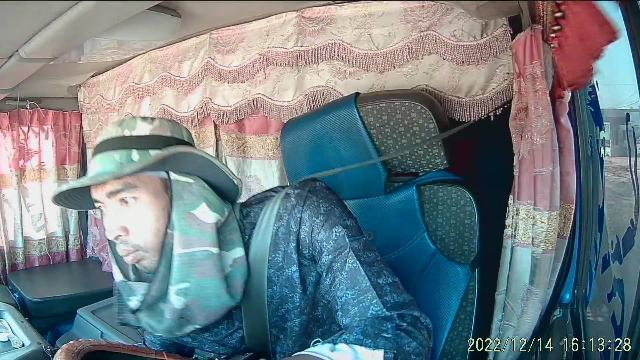SafeDriving: (116, 191, 140, 208)
Seatbelt: (239, 131, 456, 360)
